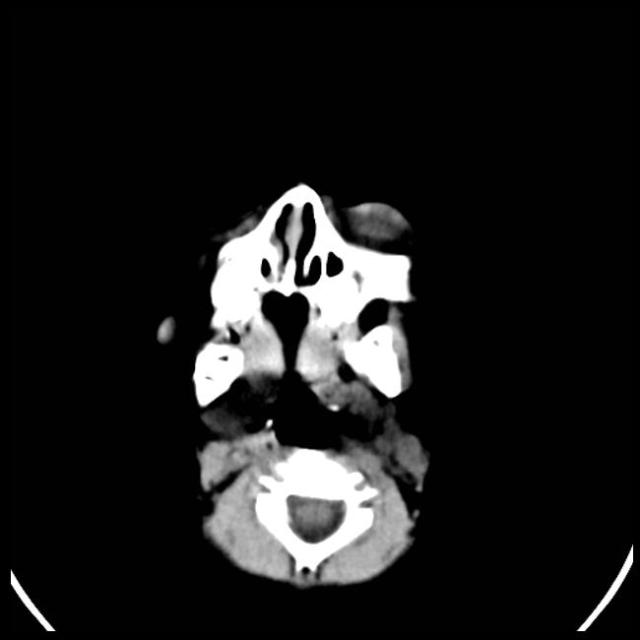lesion: (172, 176, 440, 594)
